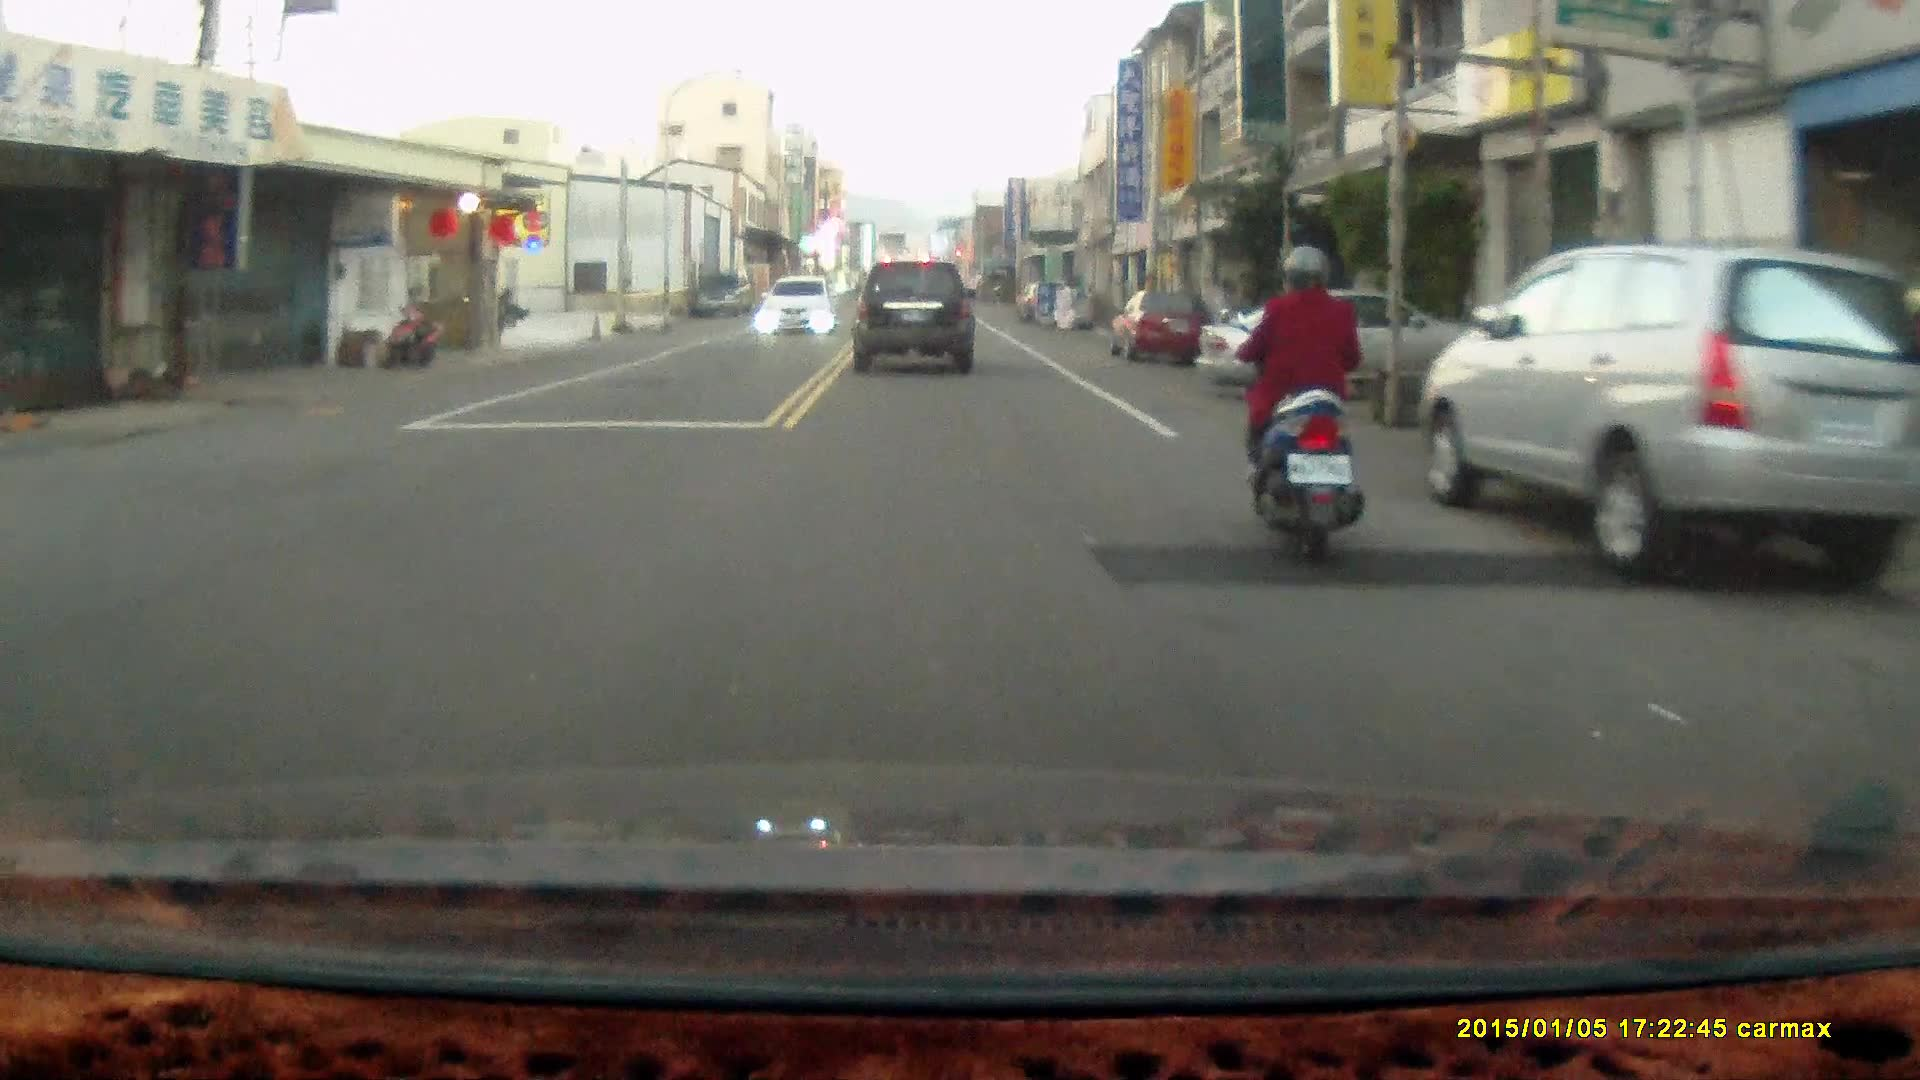rider: (1217, 246, 1368, 564)
vehicle: (1420, 245, 1920, 599), (1199, 292, 1461, 406), (852, 258, 981, 377), (1109, 290, 1216, 365), (758, 275, 839, 338), (695, 274, 754, 319)
